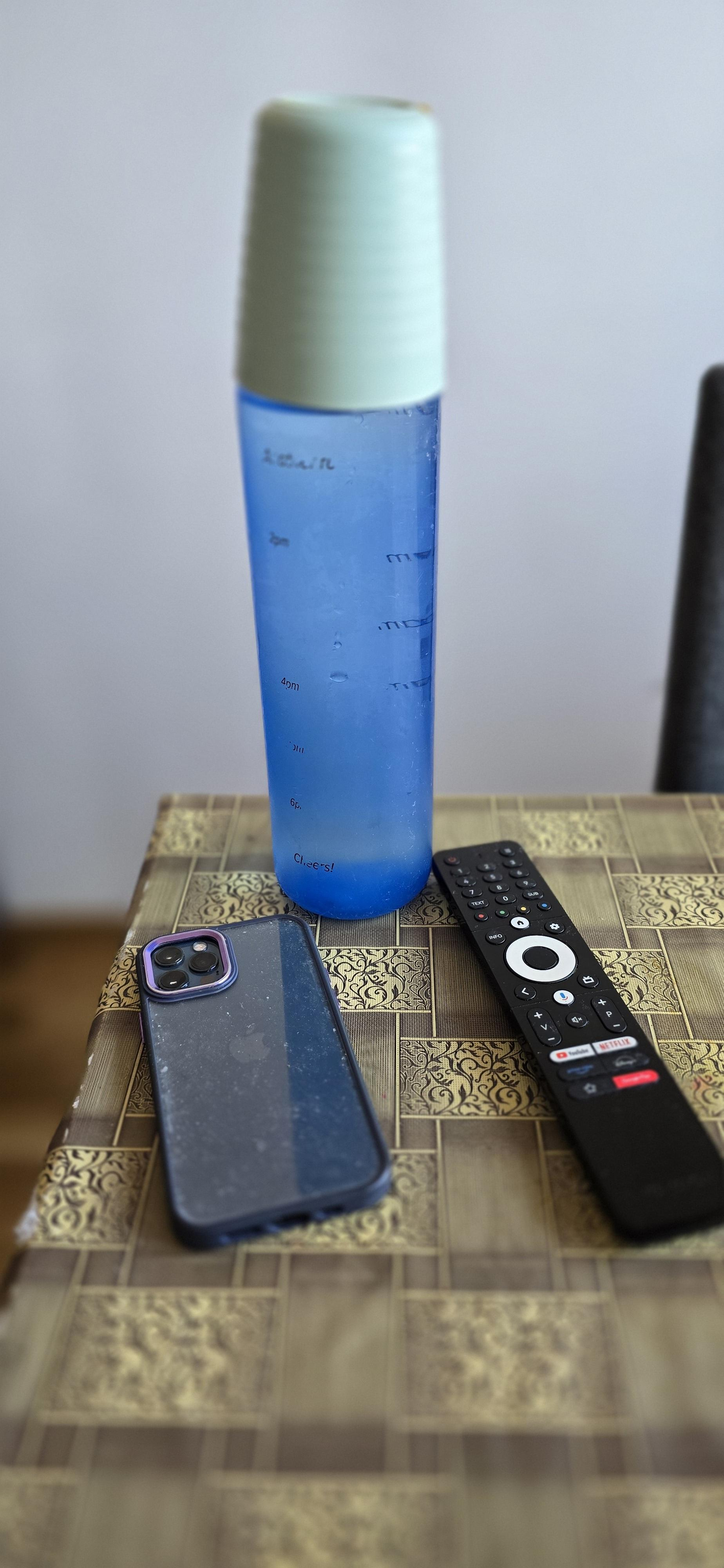bottle: (243, 385, 445, 909), (129, 934, 392, 1242)
